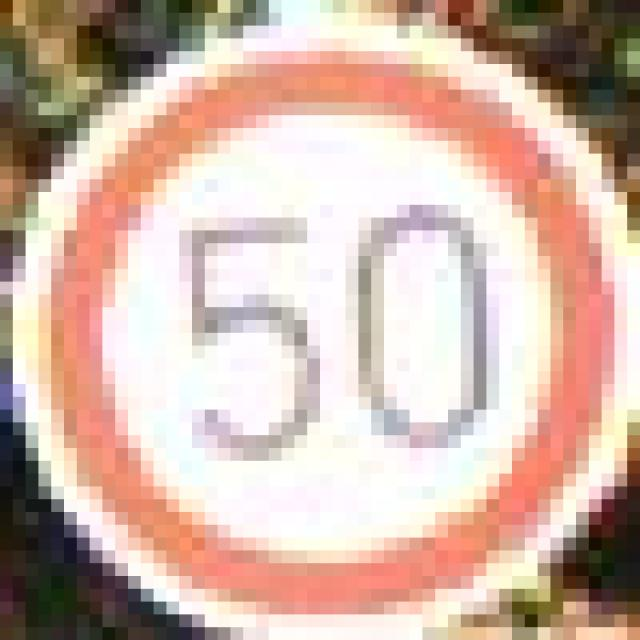SPEED_LIMIT_50: (39, 26, 602, 588)
